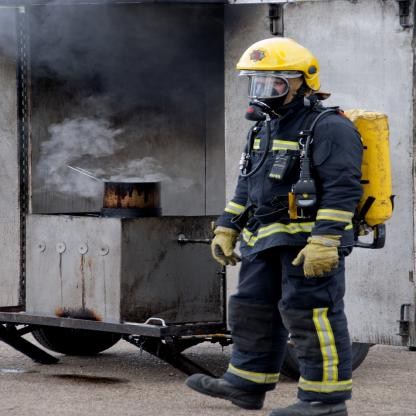Helmet: (242, 39, 326, 116)
